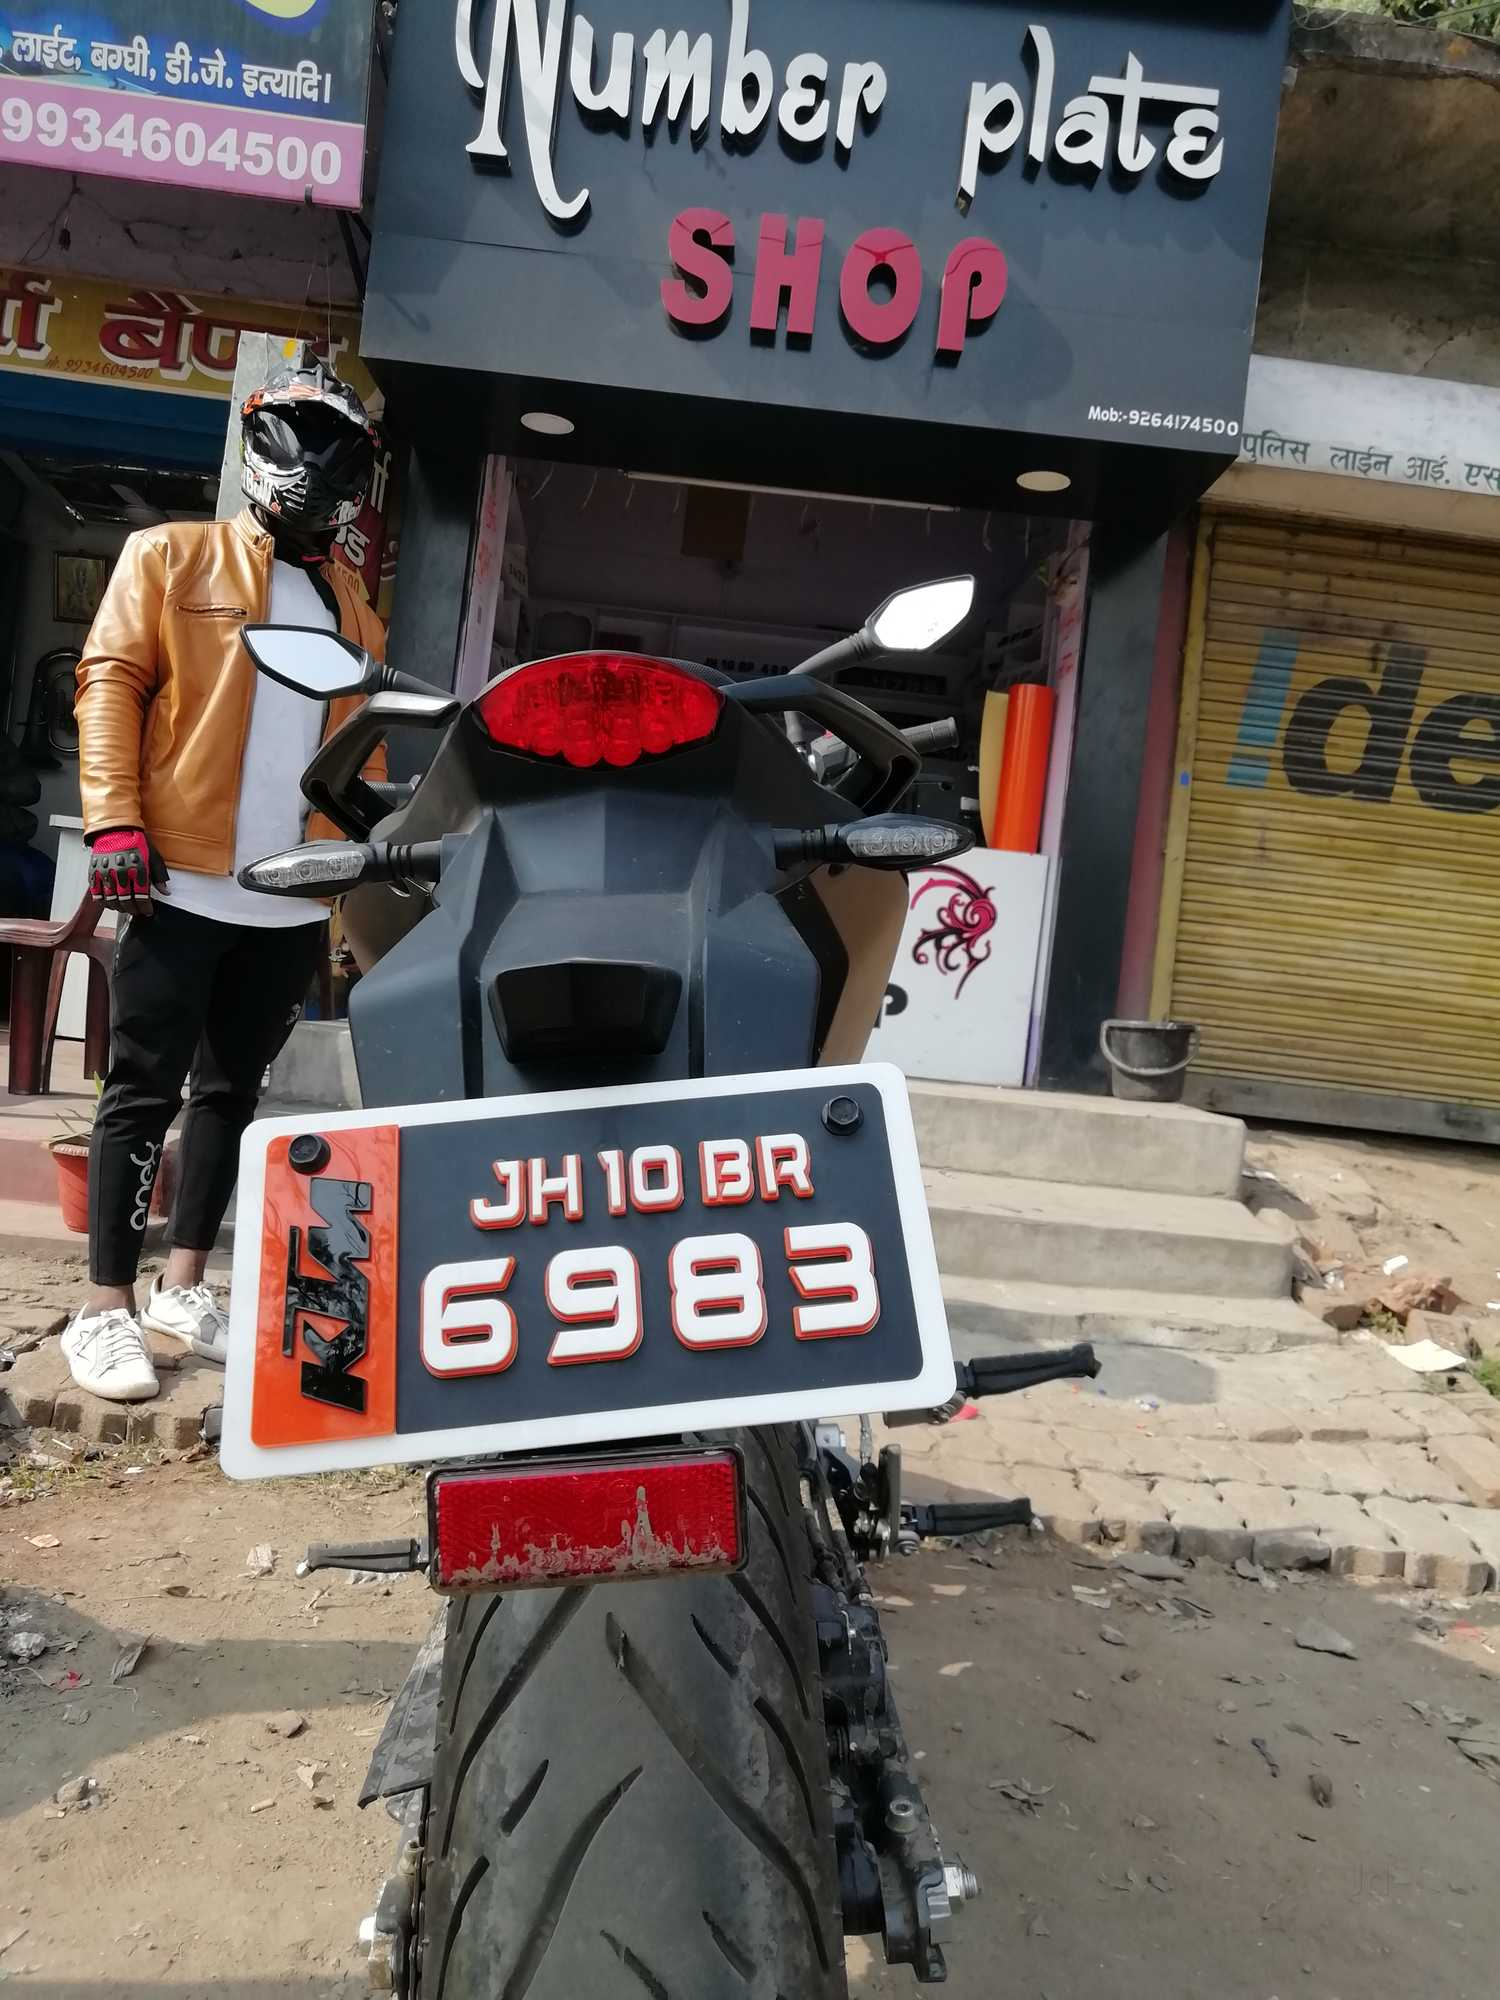number_plate: (223, 1094, 992, 1479)
